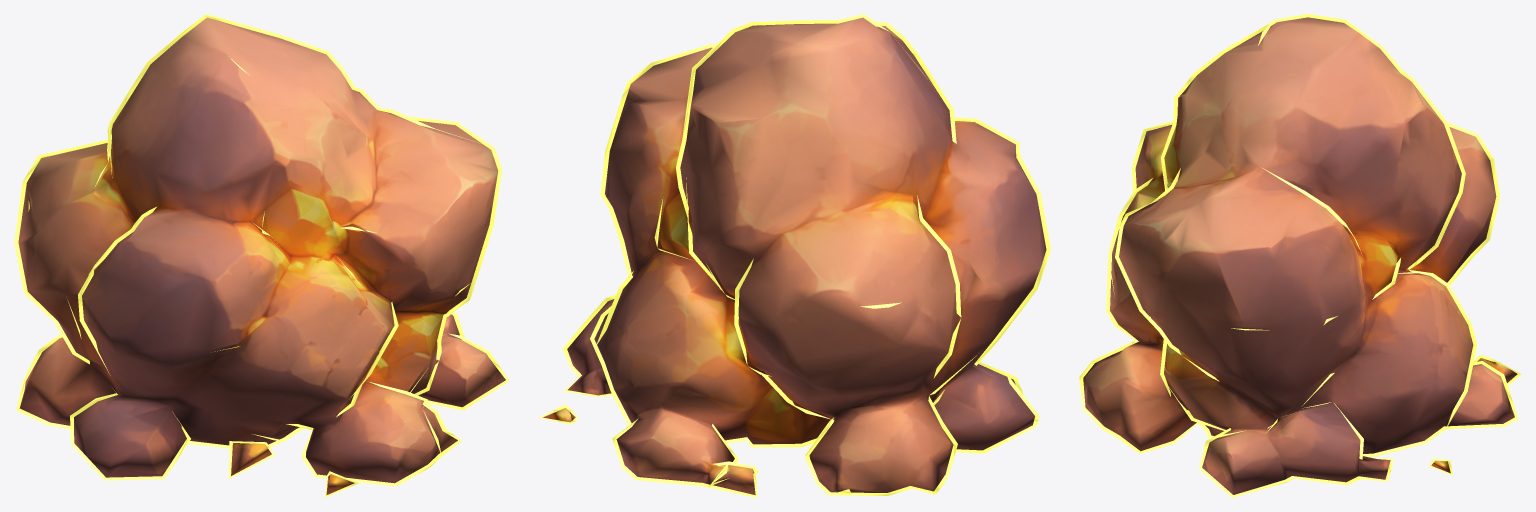
File: mining-rocks.glb
3 views of the same model, side by side, from view 1: azimuth 30°, elevation 25°; view 2: azimuth 150°, elevation 25°; view 3: azimuth 270°, elevation 25° (orthographic). The views are drawn at different scales.
Parts seen in each view (by area): view 1: mesh, emission; view 2: mesh, emission; view 3: mesh, emission.
Part boxes in pixels (x1,y1,x2,y2): mesh: (18,17,505,495); emission: (14,14,509,497); mesh: (543,17,1046,494); emission: (538,14,1050,497); mesh: (1083,17,1517,494); emission: (1079,14,1521,497).
Size of what is drawn, in the model's own units: 1.73 by 1.51 by 1.67.
Materials: 2 (2 with a texture image).
